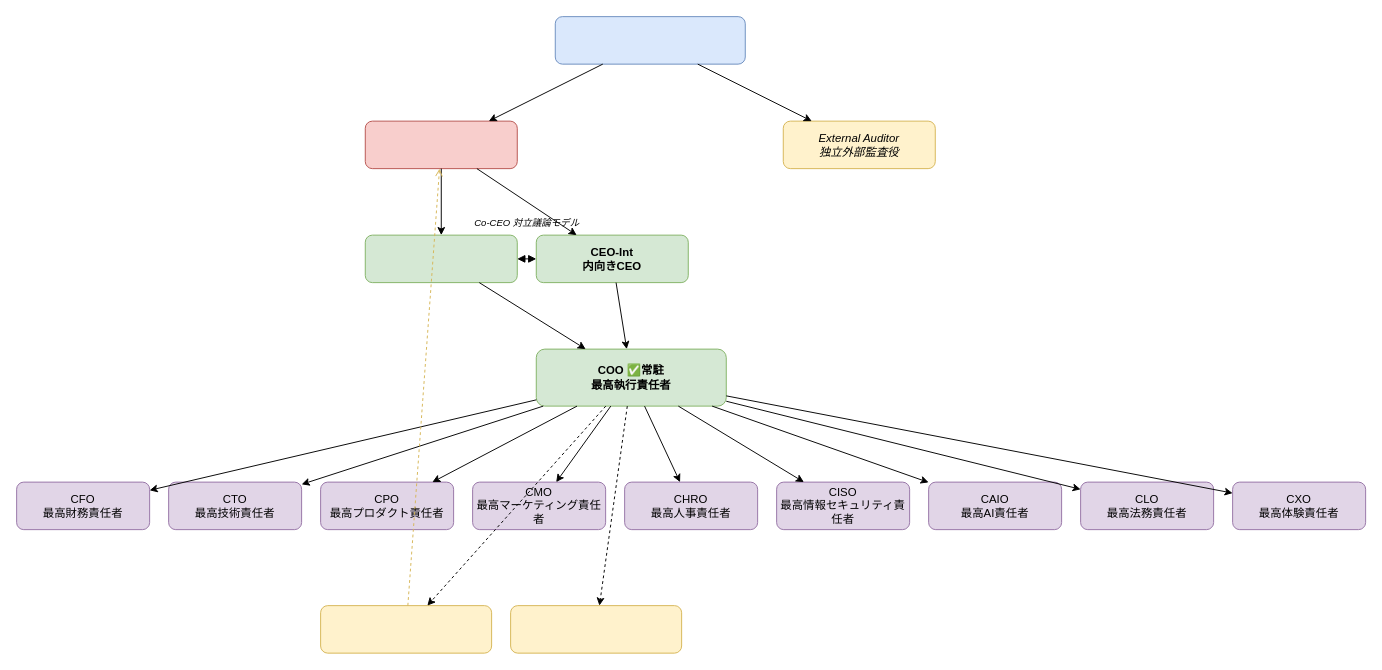
Some shapes in this 1382 by 670 pixel diagram are drawn without their labels. Here are the shapes that lost their labels. From the top down, the centre of each, then its label:
[649,40]: ユーザー（オーナー）
[440,144]: Chairman 取締役会議長
[440,258]: CEO-Ext 外向きCEO
[406,629]: Internal Auditor 内部監査役（財務兼務）
[596,629]: Internal Tech Auditor 技術内部監査委員
